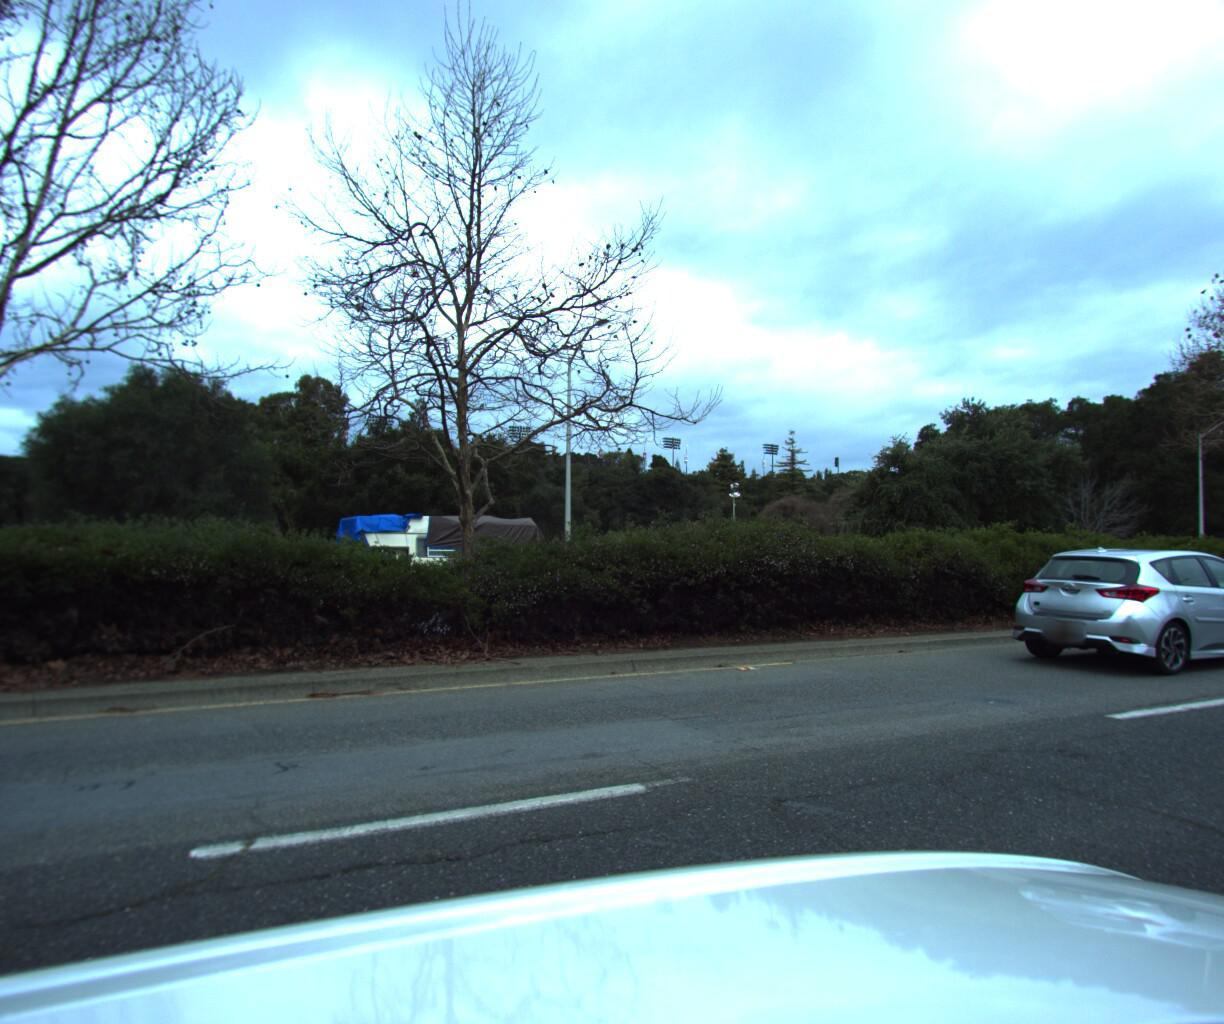car: (1000, 545, 1224, 685)
other_vehicle: (321, 506, 555, 623)
